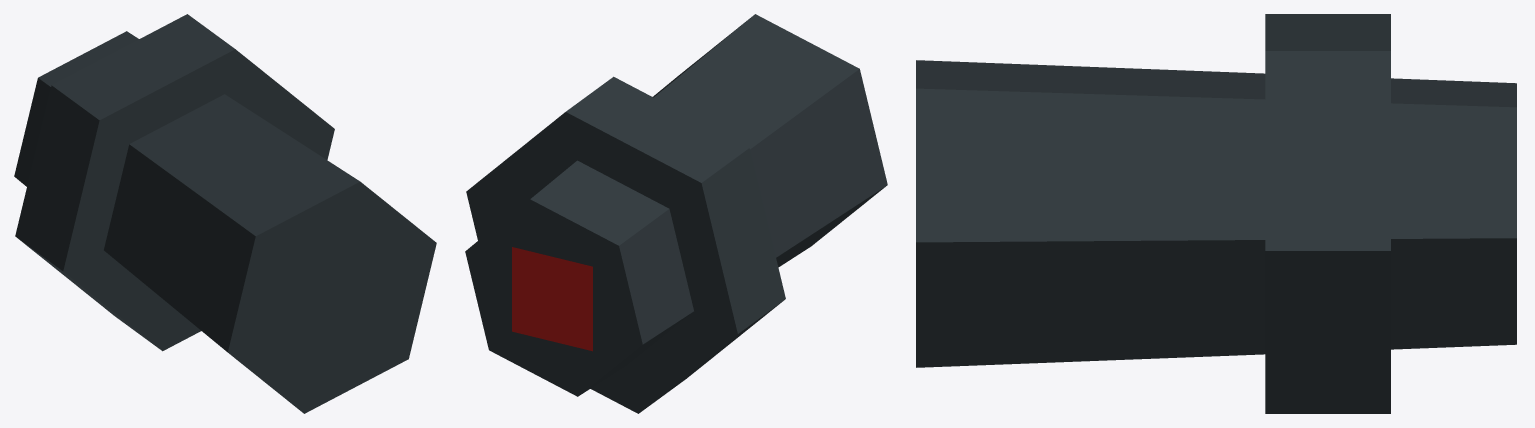
3 views of the same model, side by side, from view 1: azimuth 30°, elevation 25°; view 2: azimuth 150°, elevation 25°; view 3: azimuth 270°, elevation 25° (orthographic). The views are drawn at different scales.
Visible parts, largest first — view 1: mount; view 2: mount; view 3: mount.
Part boxes in pixels (bbox=[...]): mount: bbox=[14, 14, 436, 413]; mount: bbox=[465, 14, 887, 413]; mount: bbox=[916, 14, 1516, 413].
Size of the model in its own units: 3.26 by 3.26 by 4.8.
